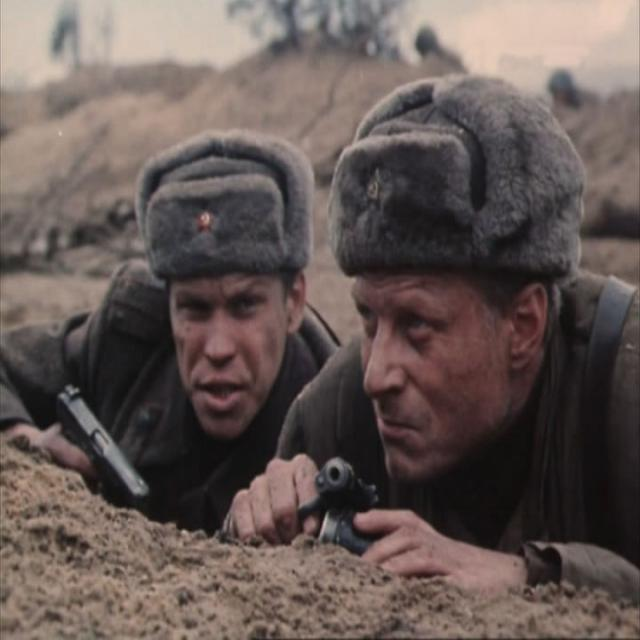gun-knife-thesis - v11 Yolov5 augmented: (39, 379, 192, 505), (278, 460, 386, 571)
